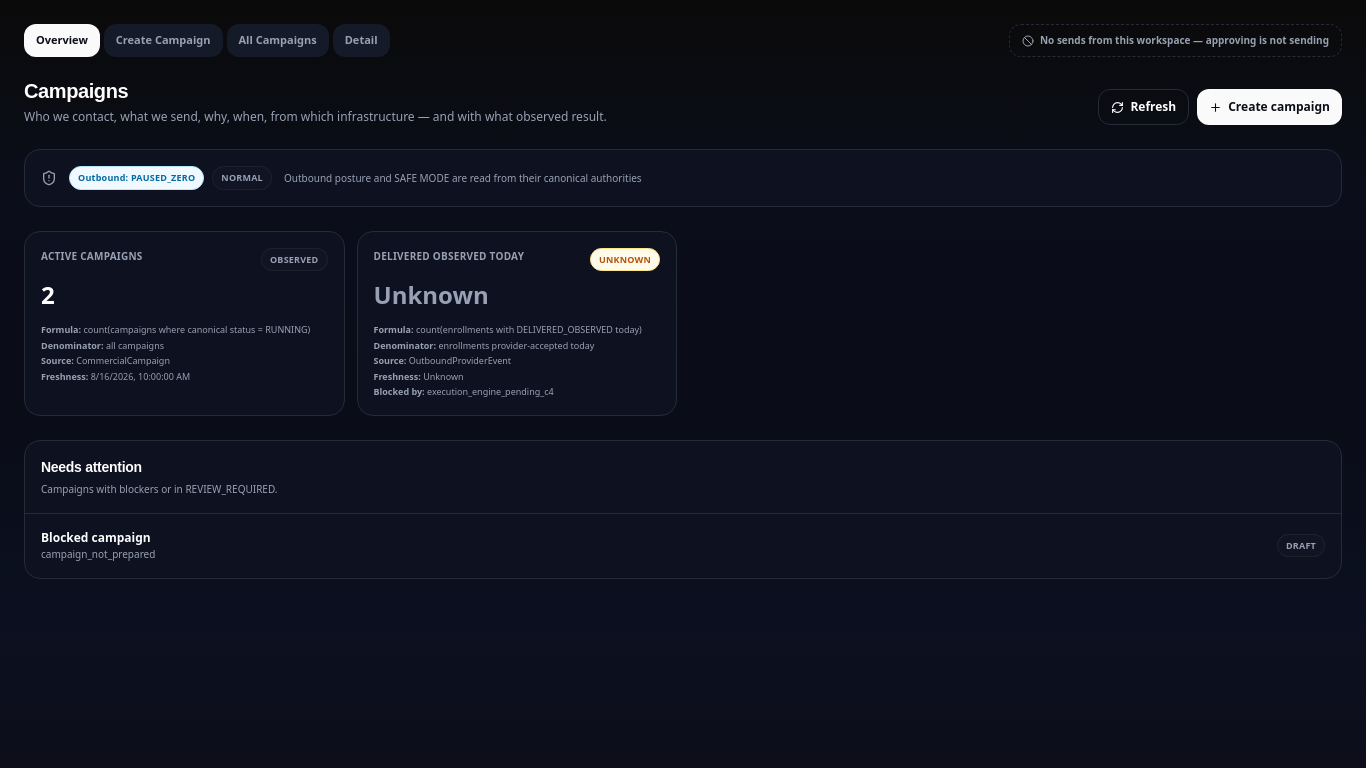
Test: AdminCampaigns — all campaigns › shows the canonical status while keeping the stored legacy value visible
Expected: the element with test id "campaign-kpi-active_campaigns" is shown, [24,230,344,416]
Click the button "All Campaigns". click: (278, 41)
box: [226,24,329,57]
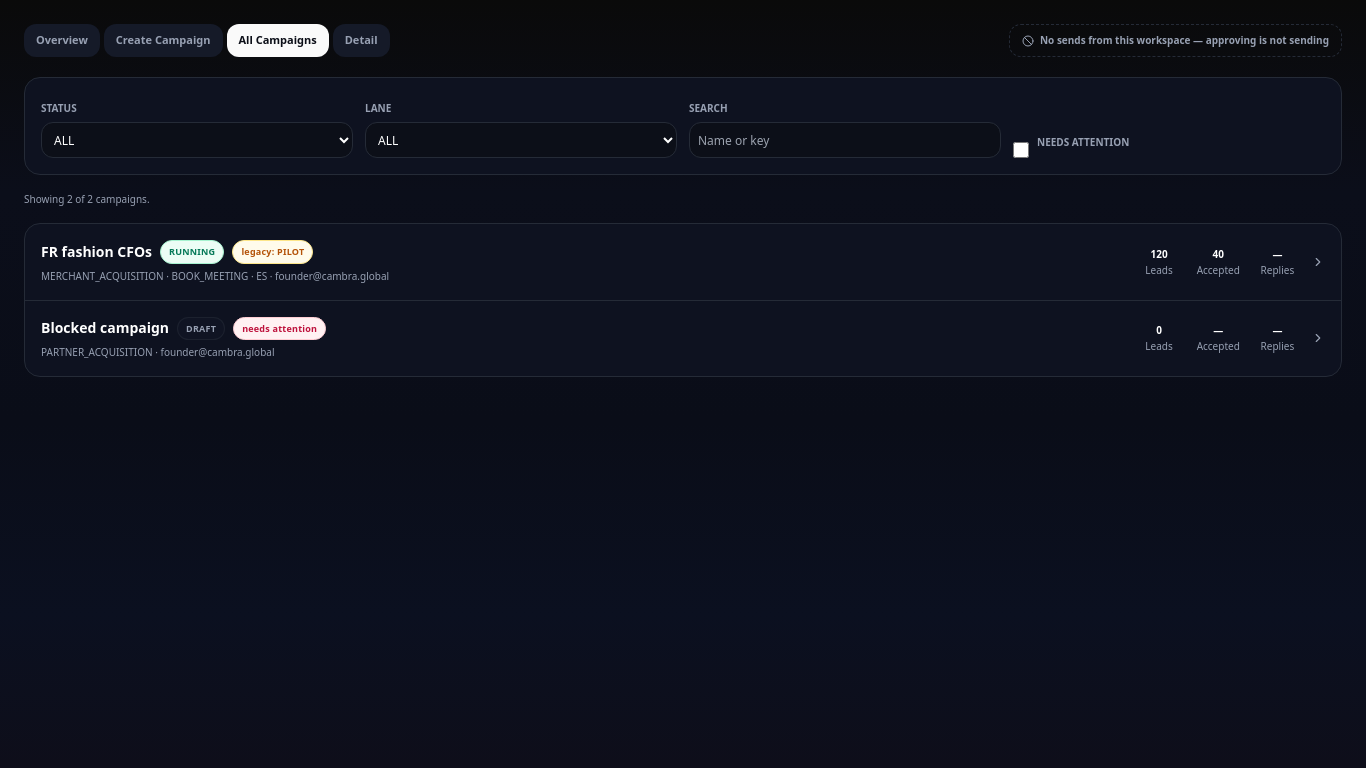
Now the button with test id "campaign-row-c1" shows "RUNNING", box [25,224,1341,300]
Now the button with test id "campaign-row-c1" shows "legacy: PILOT", box [25,224,1341,300]
